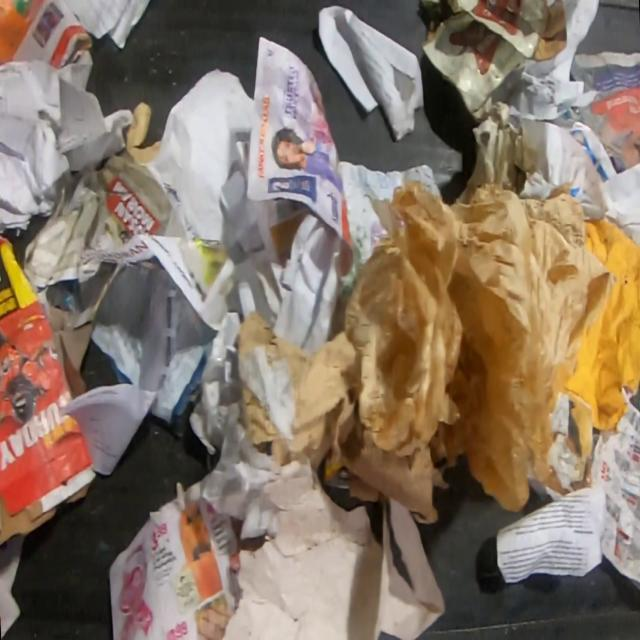cardboard: (0, 233, 100, 547), (20, 151, 186, 289), (416, 0, 567, 124), (561, 214, 640, 435), (342, 428, 440, 543), (124, 99, 161, 166)
